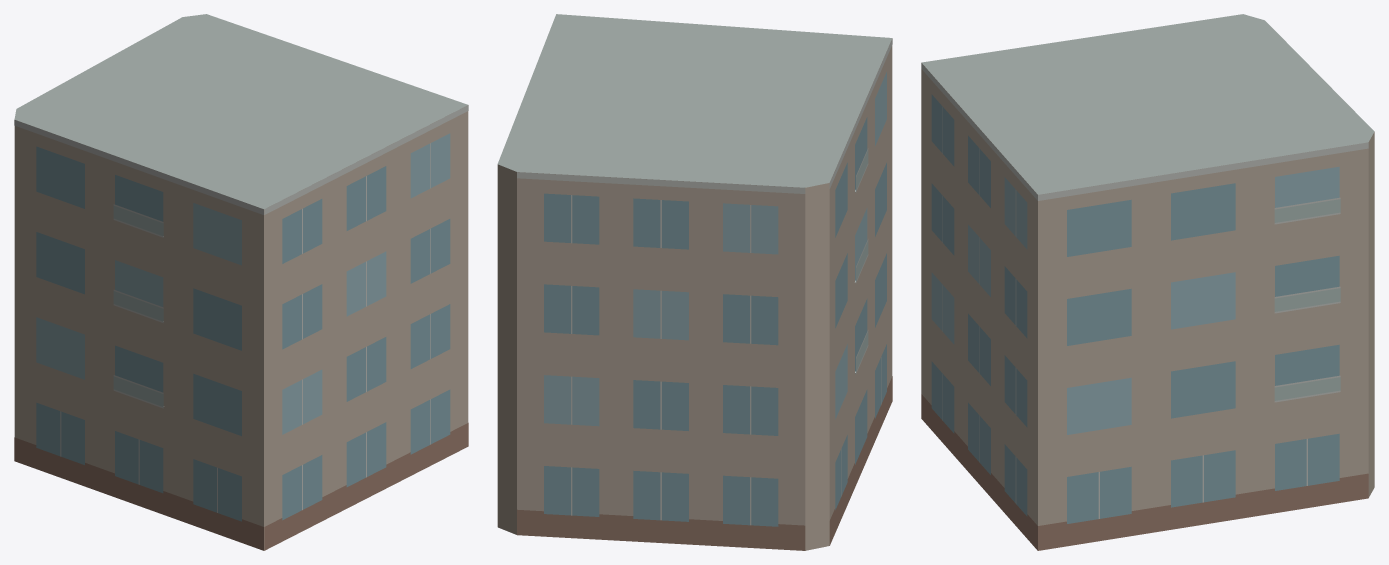
The model's file is survey-upis-33039920.glb.
3 renders of one model, left to right at view 1: azimuth 30°, elevation 25°; view 2: azimuth 150°, elevation 25°; view 3: azimuth 270°, elevation 25°, orthographic. The views are drawn at different scales.
Visible parts, largest first — view 1: survey-upis-33039920.tmp; view 2: survey-upis-33039920.tmp; view 3: survey-upis-33039920.tmp.
Part boxes in pixels (x1,y1,x2,y2): survey-upis-33039920.tmp: (14, 14, 468, 550); survey-upis-33039920.tmp: (497, 14, 892, 550); survey-upis-33039920.tmp: (921, 14, 1374, 550).
Size of the model in its own units: 15.26 by 14 by 16.16.
